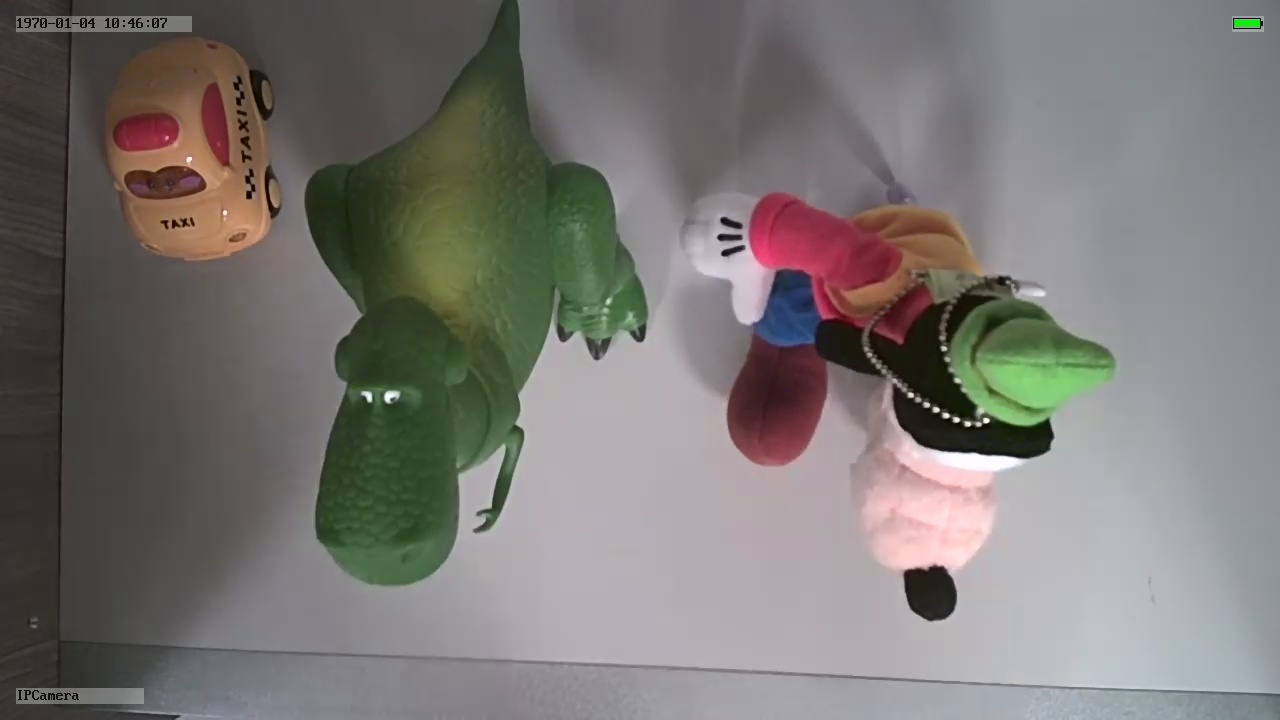car: (103, 36, 288, 262)
goofy: (672, 186, 1119, 622)
rex: (303, 66, 650, 592)
